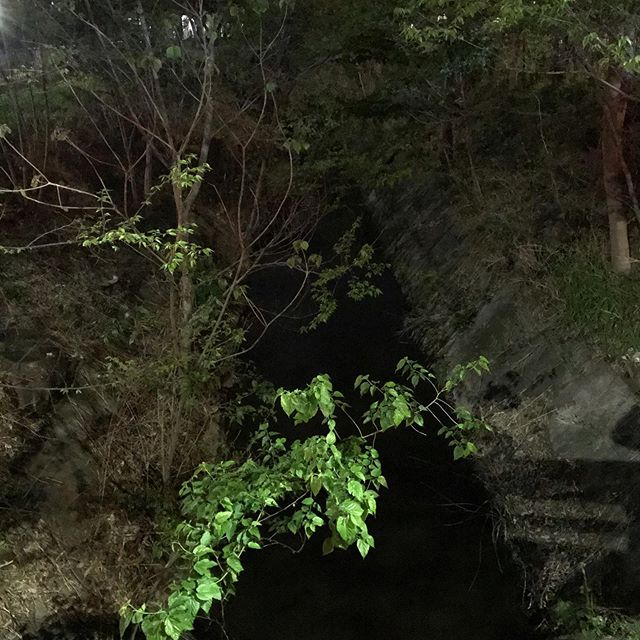river: (244, 192, 511, 640)
vegetation: (1, 1, 253, 626), (346, 13, 640, 509)
